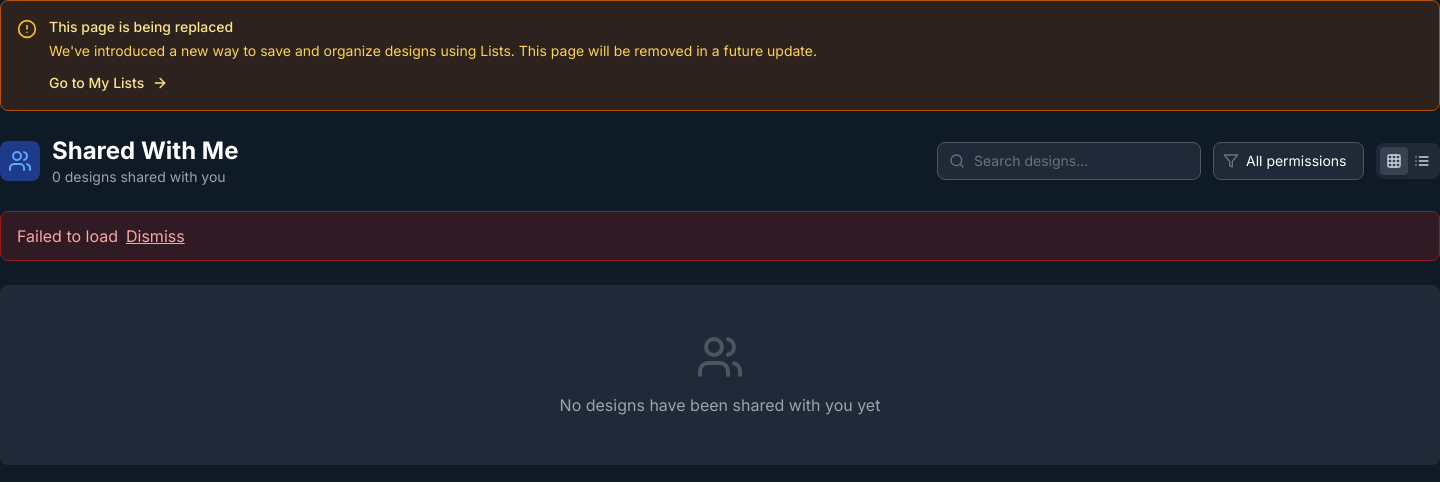
Test case: SharedWithMePage › dismisses error on button click
The image size is (1440, 482).
Expected: the text "Failed to load Dismiss" is shown, [0,211,1439,261]
Click the button "Dismiss" at (155, 236), box [126,224,185,248]
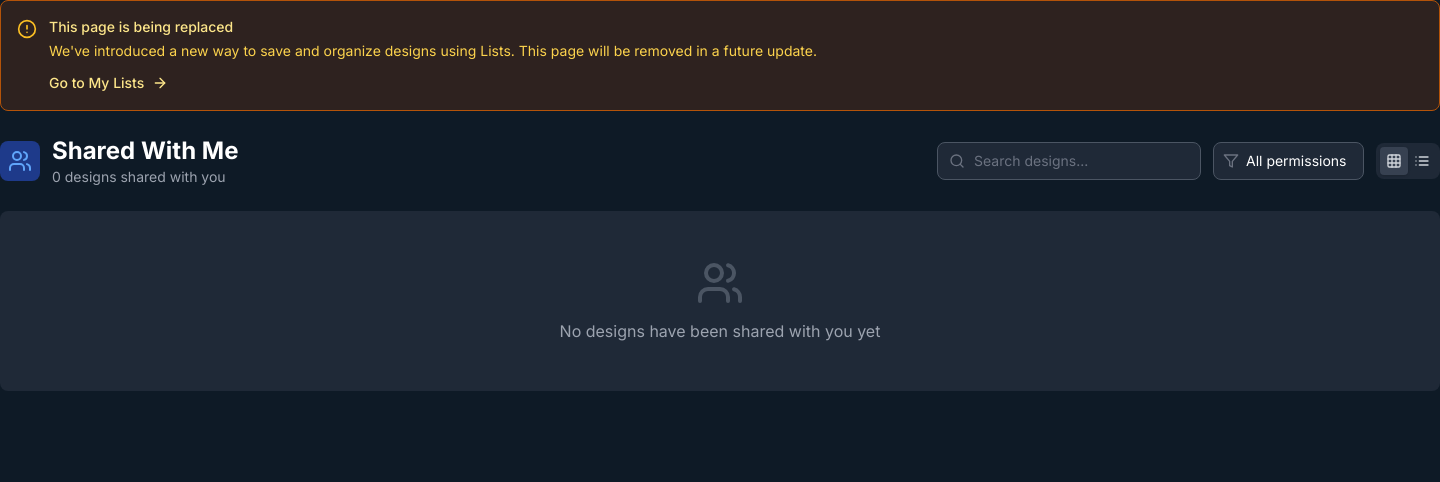
Expected: the text "Failed to load" is gone
